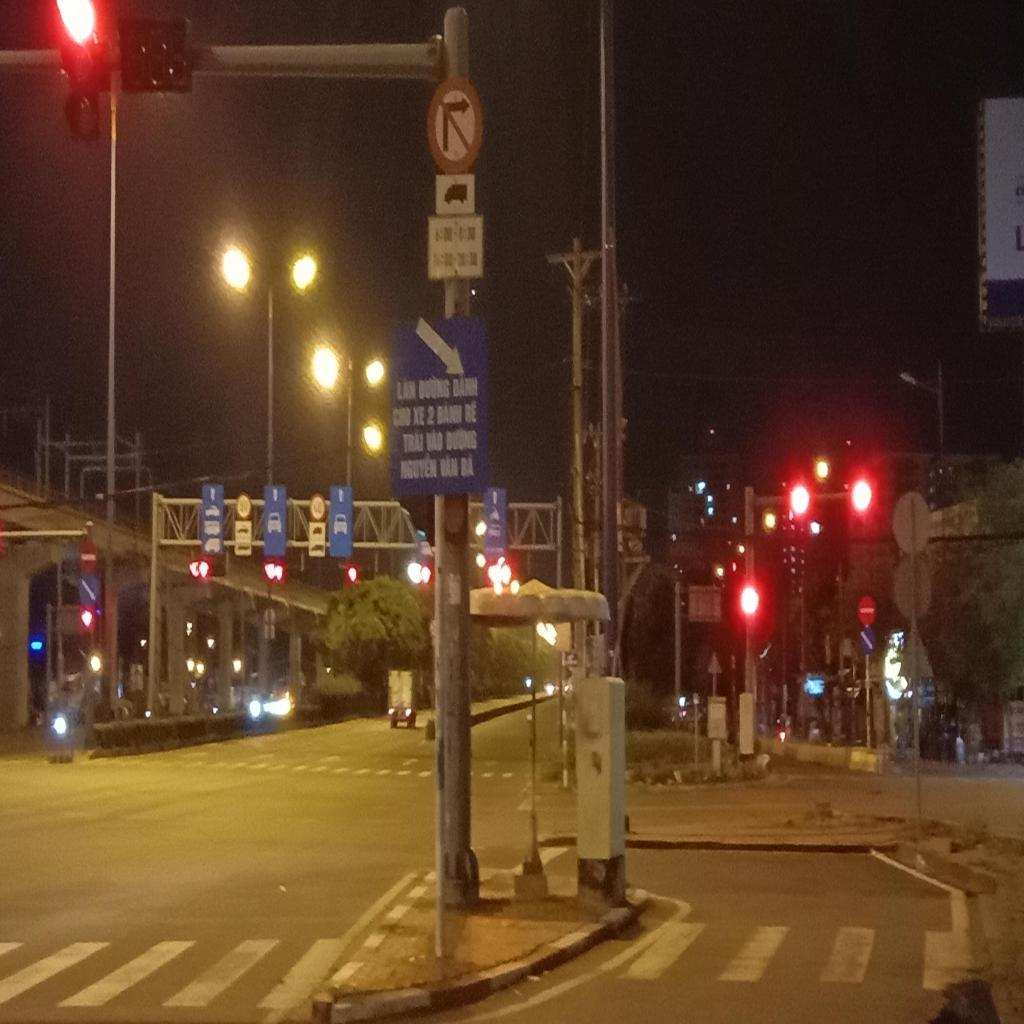cam_re_phai: (426, 76, 482, 175)
cam_xe_di_nguoc_chieu: (79, 540, 97, 573), (858, 594, 876, 625)
duong_cho_xe_o_to: (330, 487, 352, 557), (264, 485, 285, 556)
huong_phai_di_vuot_chuong_ngai_vat_phai: (78, 573, 98, 606), (858, 628, 874, 656)
khac: (392, 318, 486, 496), (427, 216, 483, 279), (482, 488, 506, 555), (201, 484, 223, 553), (436, 173, 473, 213), (235, 520, 251, 541), (234, 540, 251, 555), (310, 522, 325, 539), (308, 538, 325, 553)
toc_do_toi_da_60: (310, 493, 326, 520)
toc_do_toi_da_80: (236, 494, 251, 516)
